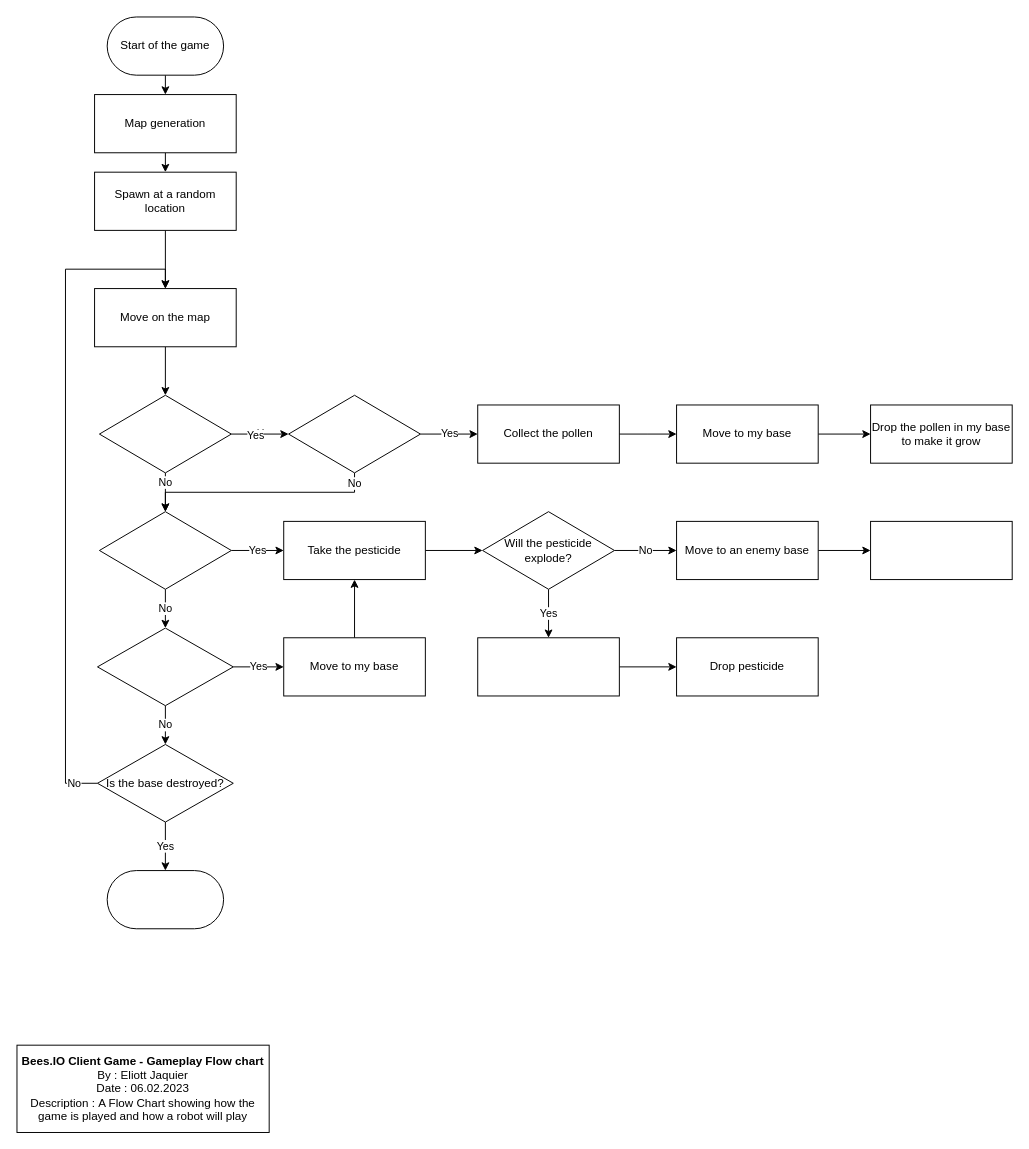
The diagram is 1029 pixels wide and 1149 high, and some of its shapes have lost their labels. Each missing label, with the centre of its shape:
"Does the flower have pollen?" belongs at point 354,433.
"End of the game" belongs at point 165,899.
"Is there a flower nearby?" belongs at point 164,433.
"Is there a pesticide to take nearby?" belongs at point 164,550.
"Move away from the base" belongs at point 548,666.
"Place the pesticide to destroy the base of the other" belongs at point 941,550.
"Will a pesticide explode on my base?" belongs at point 165,666.
